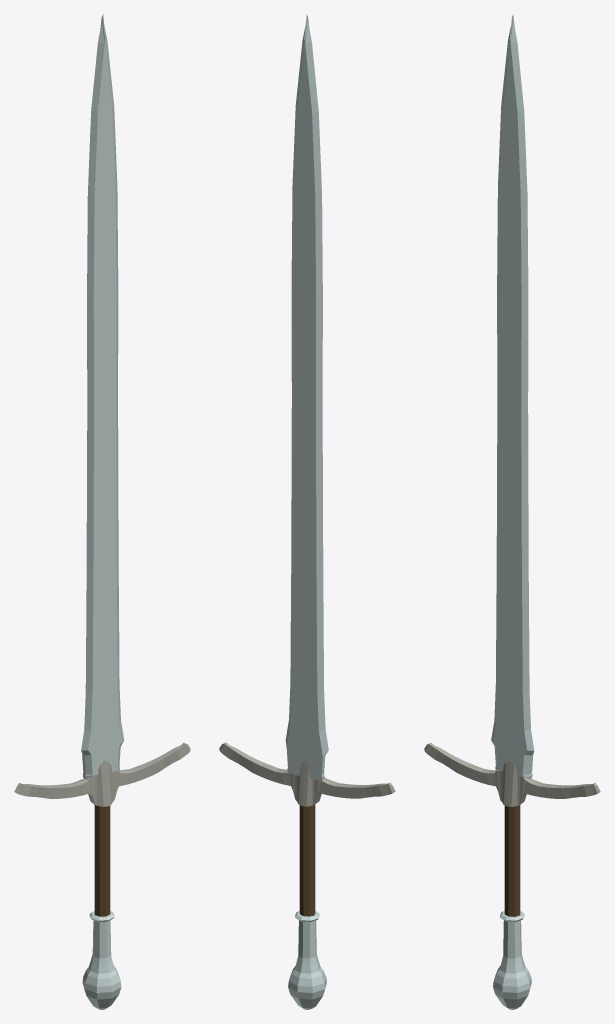
File: Sword1.fbx
3 renders of one model, left to right at view 1: azimuth 30°, elevation 25°; view 2: azimuth 150°, elevation 25°; view 3: azimuth 330°, elevation 25°, orthographic.
Parts seen in each view (by area): view 1: Plane, Cube, Plane.001, Cylinder; view 2: Plane, Cube, Plane.001, Cylinder; view 3: Plane, Cube, Plane.001, Cylinder.
Boxes of the visible parts, x1,y1,x2,y2 form: Plane: (81,14,123,779); Cube: (14,742,190,806); Plane.001: (82,911,121,1009); Cylinder: (94,804,110,916); Plane: (285,14,328,780); Cube: (219,742,395,806); Plane.001: (288,911,326,1009); Cylinder: (299,804,315,916); Plane: (491,14,534,779); Cube: (424,743,600,806); Plane.001: (493,911,531,1009); Cylinder: (504,805,520,916).
Bounding box in the file's own units: 86.49 × 466 × 17.16.
